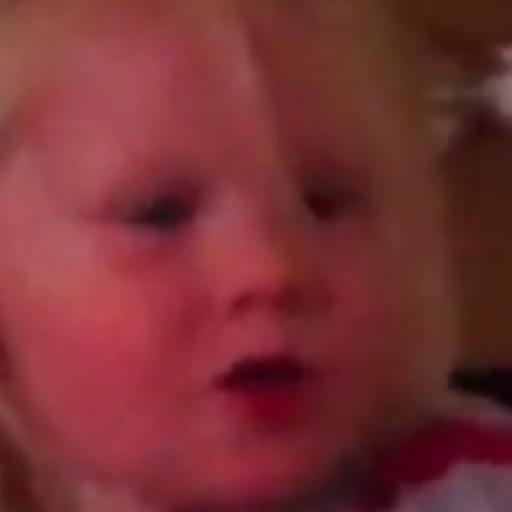Autism: (31, 33, 512, 512)
